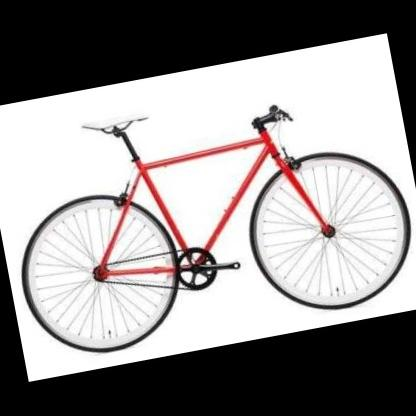Bicycle: (13, 83, 414, 335)
